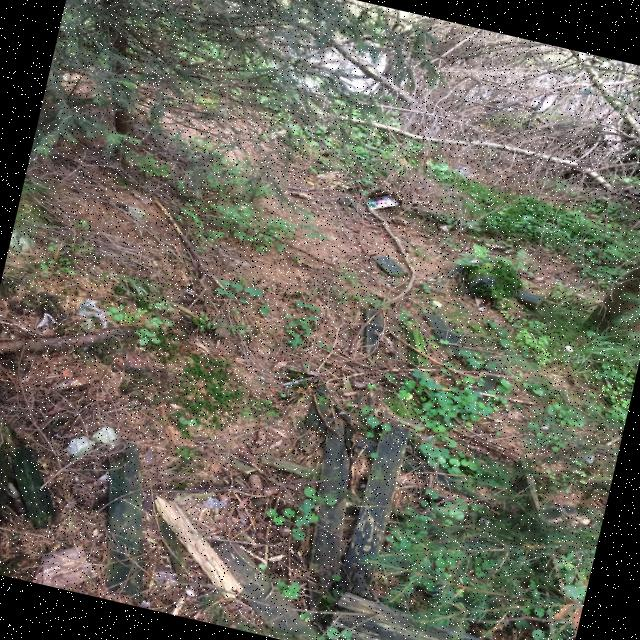Drink can: (367, 194, 402, 209)
Unlabeled litter: (282, 377, 318, 389)
